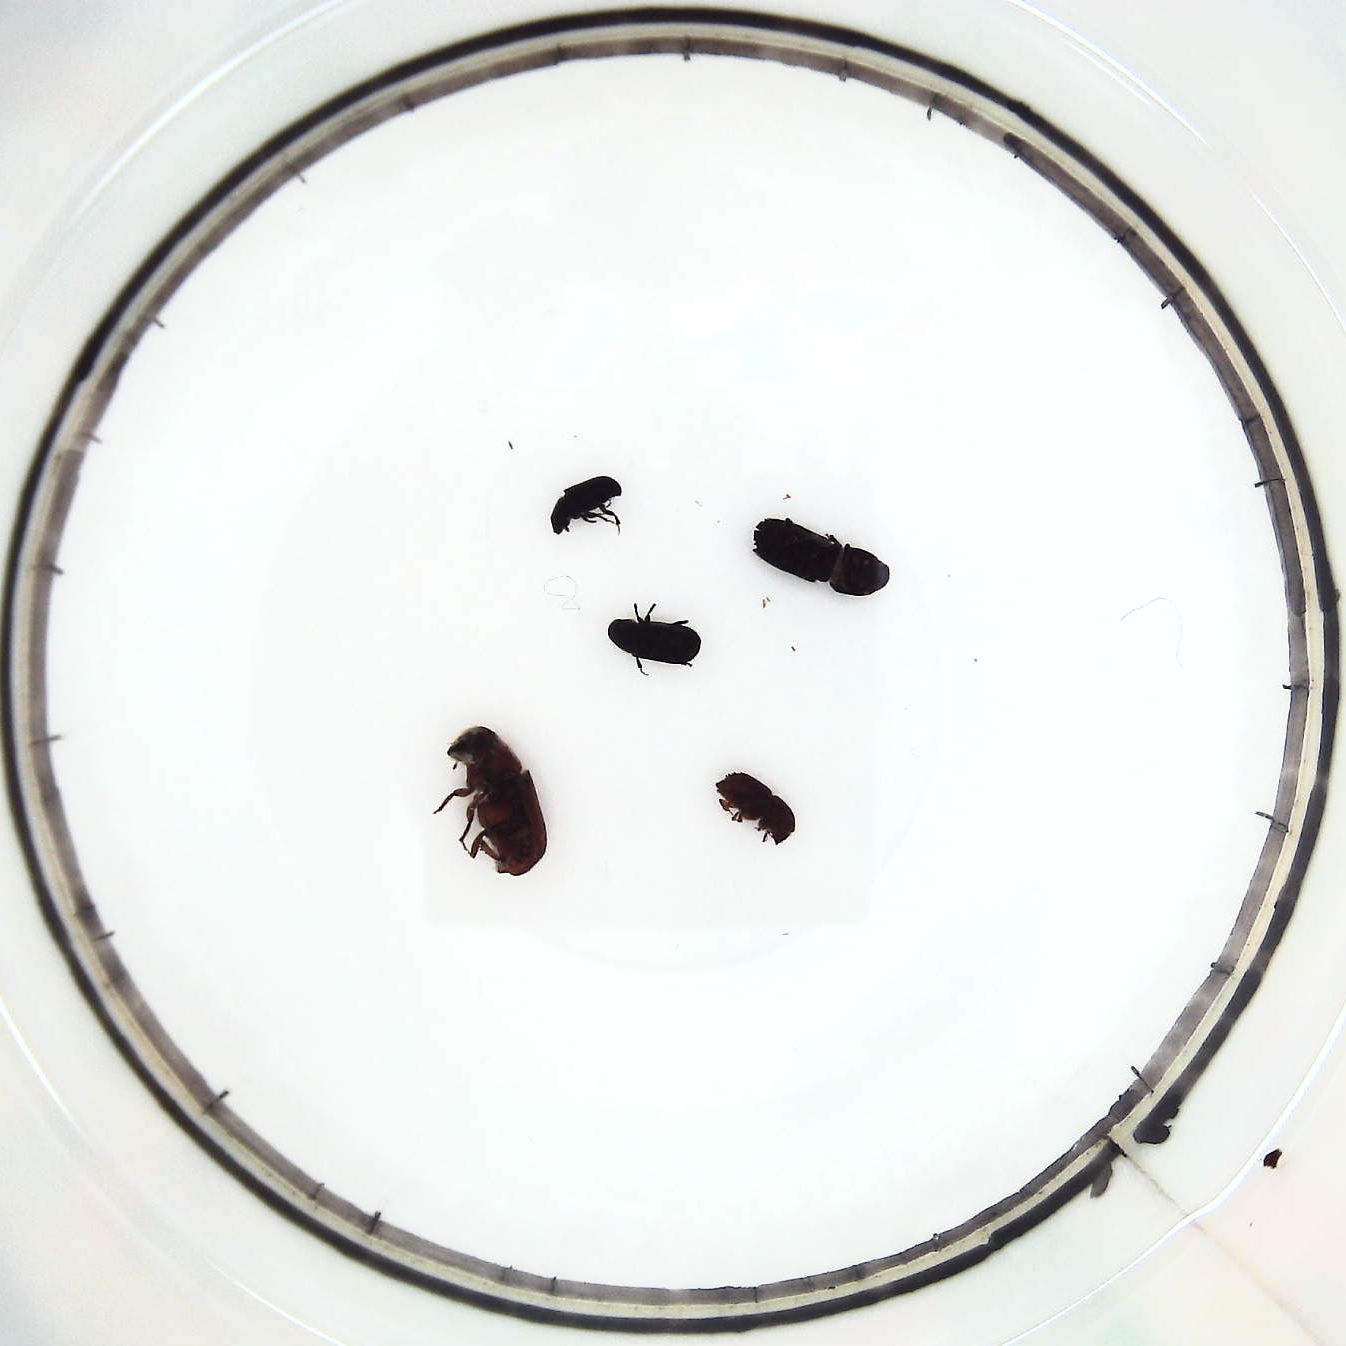Leconte: (426, 722, 551, 878), (546, 470, 632, 536)
armandi: (602, 600, 703, 678)
linnaeus: (749, 514, 887, 602), (715, 763, 800, 844)
